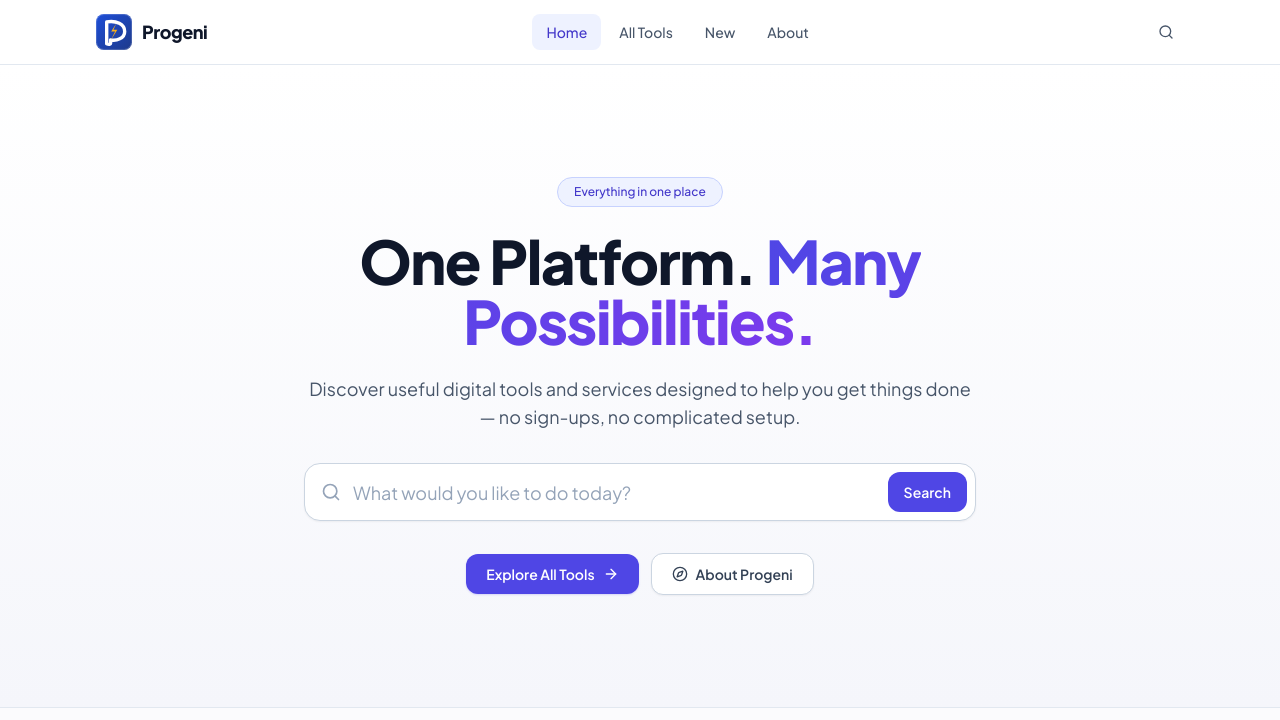
Test: Header search overlay › closes when the backdrop is clicked
Click the button named "open search" at (1166, 32), box [1148,14,1184,50]
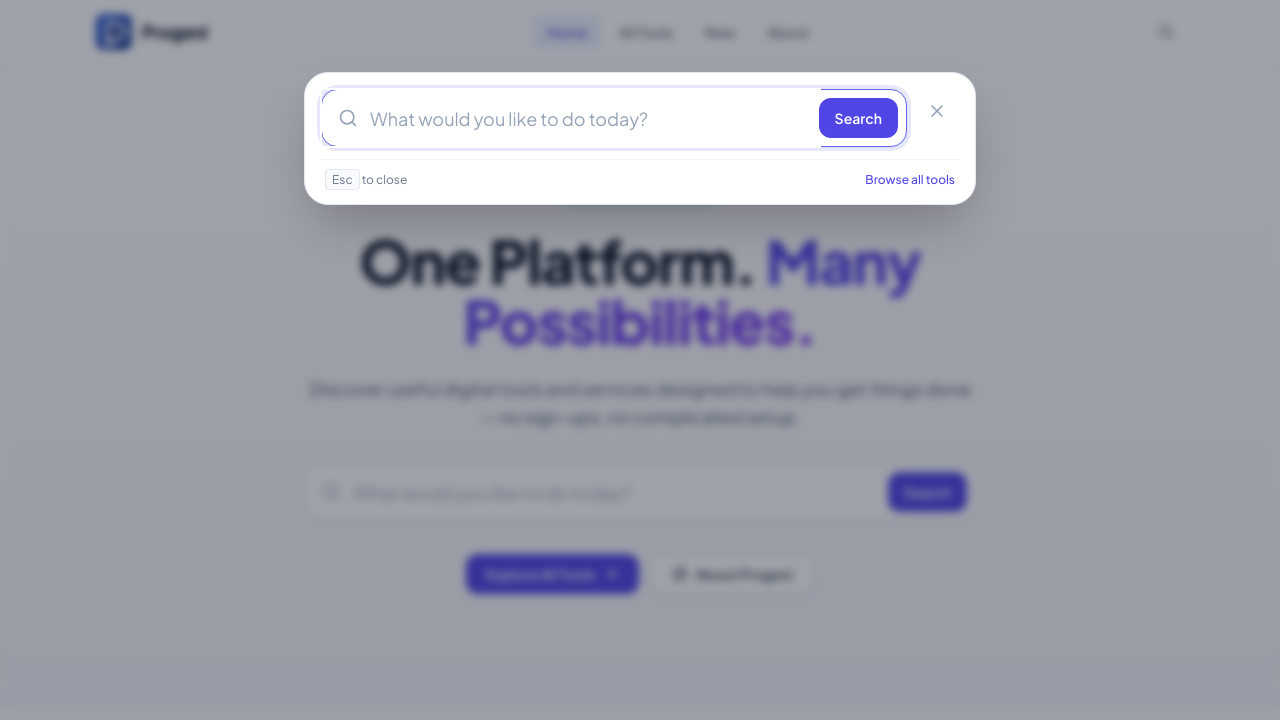
Check: the dialog is shown, box [304,72,976,205]
Click the element with class "backdrop-blur-sm" at (640, 360), box [0,0,1279,719]
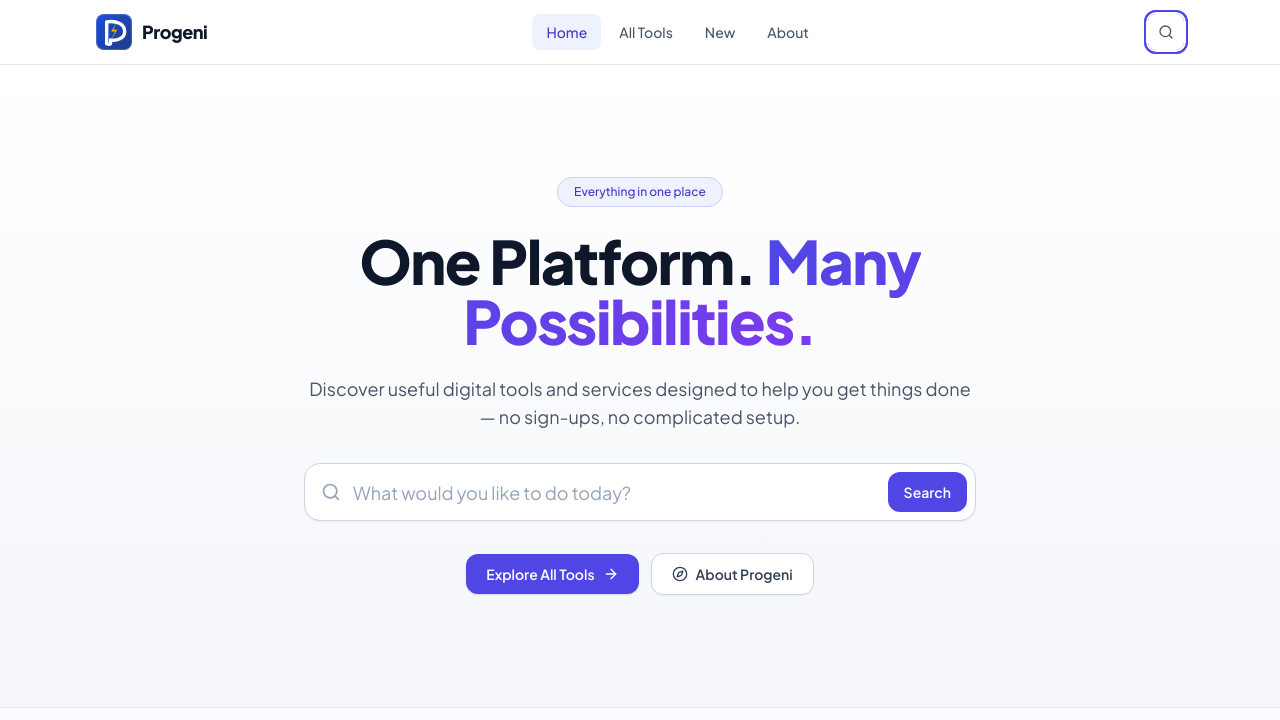
Check: the dialog is gone
